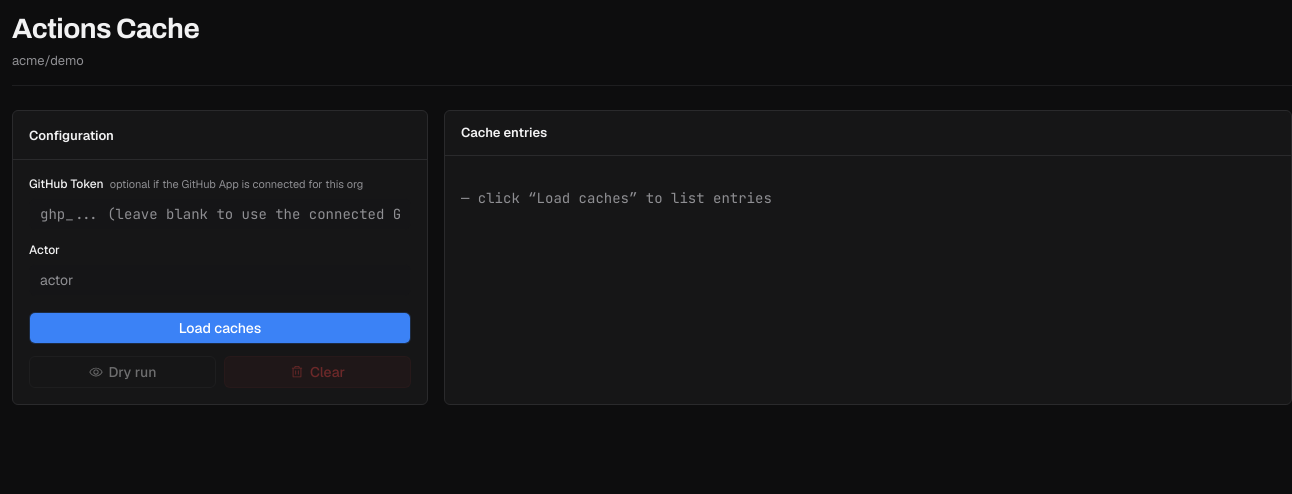
Test: CachePage › shows an error message if saving the token fails
In the password field with placeholder "ghp_... (leave blank to use the connected GitHub App)": (220, 214) [29,198,411,230], type "ghp_manual_1234567890123456789012"
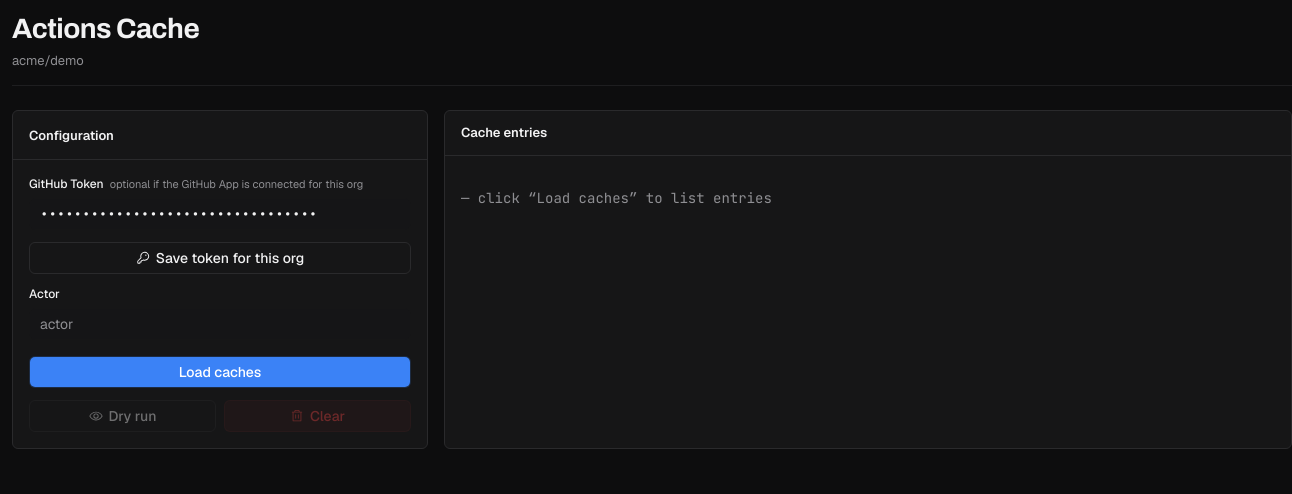
Click the button "Save token for this org": (220, 258) [29,242,411,274]
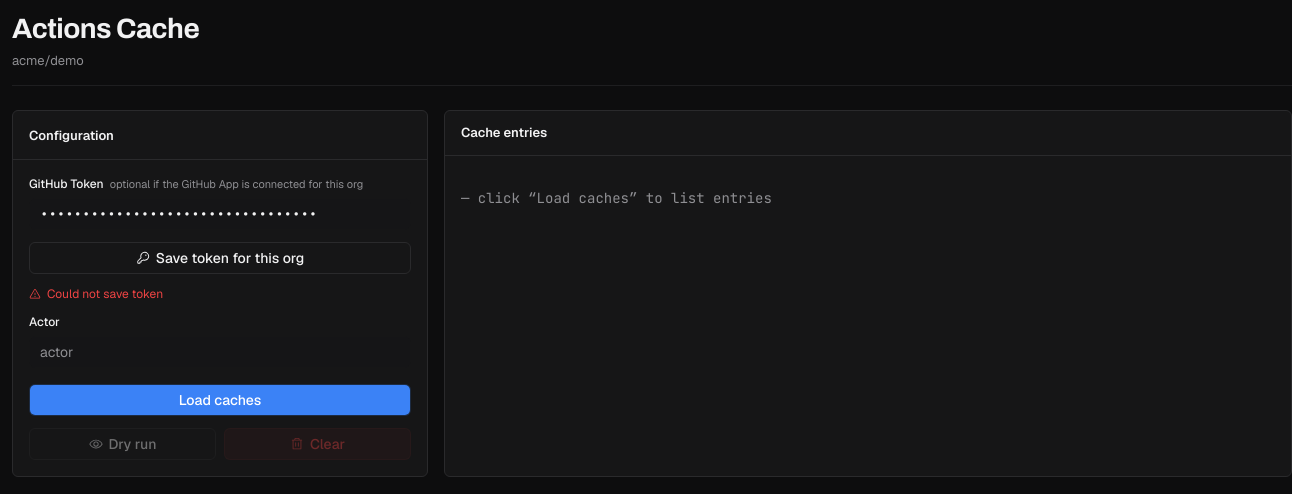
expect the text "Could not save token" is shown: met, box [29,286,163,302]
